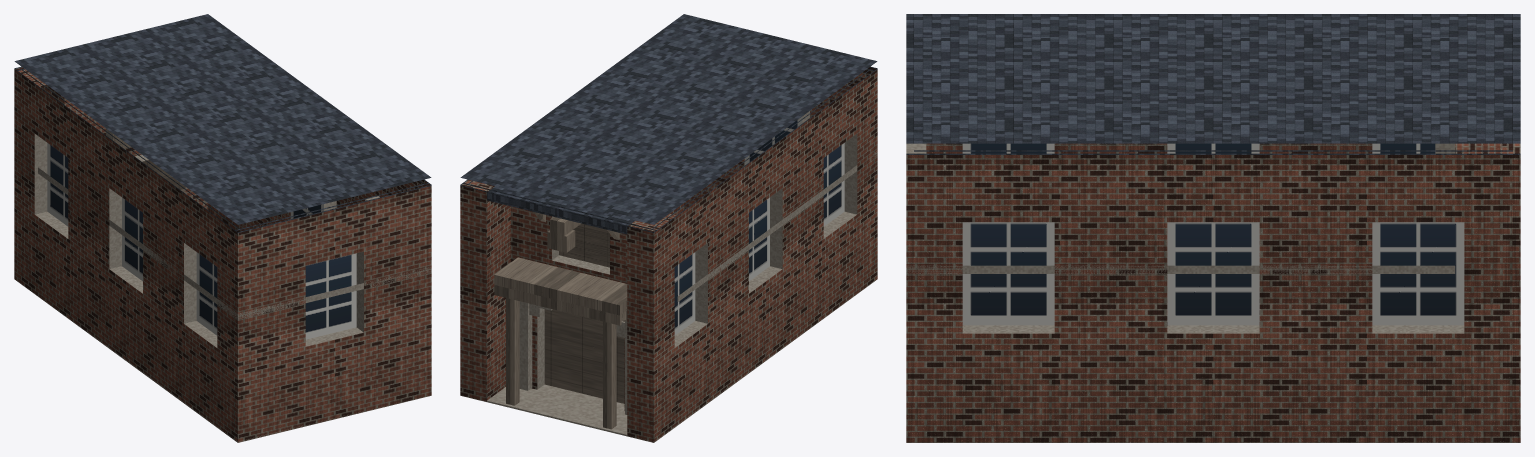
Rendered from bldg-warehouse-wharf-b.glb.
The picture shows the model from 3 angles, left to right: view 1: azimuth 30°, elevation 25°; view 2: azimuth 150°, elevation 25°; view 3: azimuth 270°, elevation 25°; orthographic projection. The views are drawn at different scales.
Visible parts, largest first — view 1: bldg-warehouse-wharf-b; view 2: bldg-warehouse-wharf-b; view 3: bldg-warehouse-wharf-b.
Part boxes in pixels (x1,y1,x2,y2): bldg-warehouse-wharf-b: (14, 14, 431, 442); bldg-warehouse-wharf-b: (460, 14, 877, 442); bldg-warehouse-wharf-b: (906, 14, 1520, 442).
Bounding box in the file's own units: 4 × 4.3 × 8.
6 materials, 6 textured.
